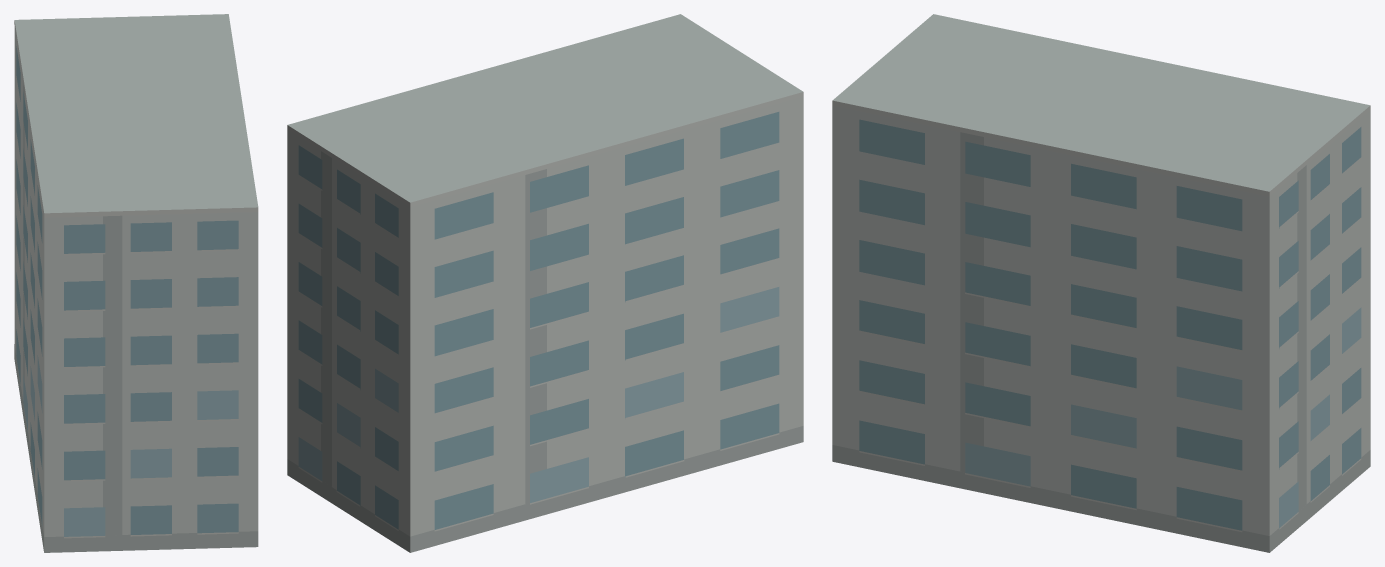
The model's file is residential-a0611eed-8f67-4aa1-9ef9-5daf43259b1c.glb.
The picture shows the model from 3 angles, left to right: view 1: azimuth 30°, elevation 25°; view 2: azimuth 150°, elevation 25°; view 3: azimuth 270°, elevation 25°; orthographic projection. The views are drawn at different scales.
Visible parts, largest first — view 1: residential-a0611eed-8f67-4aa1-9ef9-5daf43259b1c.tmp; view 2: residential-a0611eed-8f67-4aa1-9ef9-5daf43259b1c.tmp; view 3: residential-a0611eed-8f67-4aa1-9ef9-5daf43259b1c.tmp.
Part boxes in pixels (bbox=[...]): residential-a0611eed-8f67-4aa1-9ef9-5daf43259b1c.tmp: bbox=[14, 14, 258, 552]; residential-a0611eed-8f67-4aa1-9ef9-5daf43259b1c.tmp: bbox=[287, 14, 803, 552]; residential-a0611eed-8f67-4aa1-9ef9-5daf43259b1c.tmp: bbox=[832, 14, 1370, 552].
Size of the model in its own units: 19.01 by 18 by 24.32.
